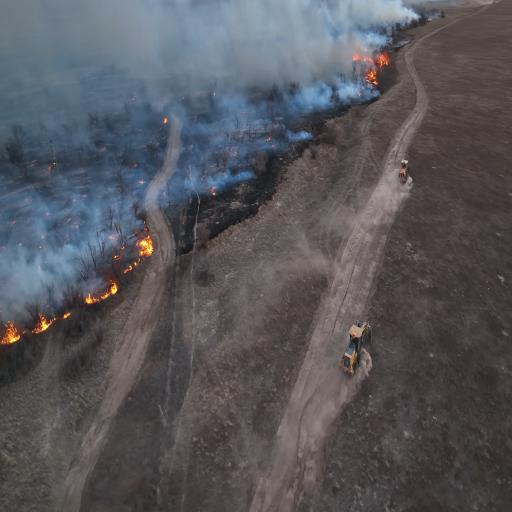smoke: (24, 0, 284, 95), (0, 0, 91, 98), (267, 0, 331, 91), (0, 239, 49, 303)
